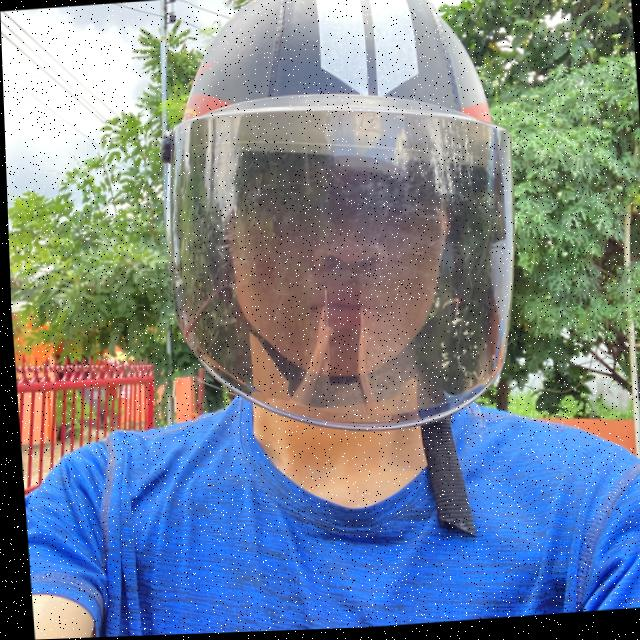helmet: (141, 0, 536, 460)
